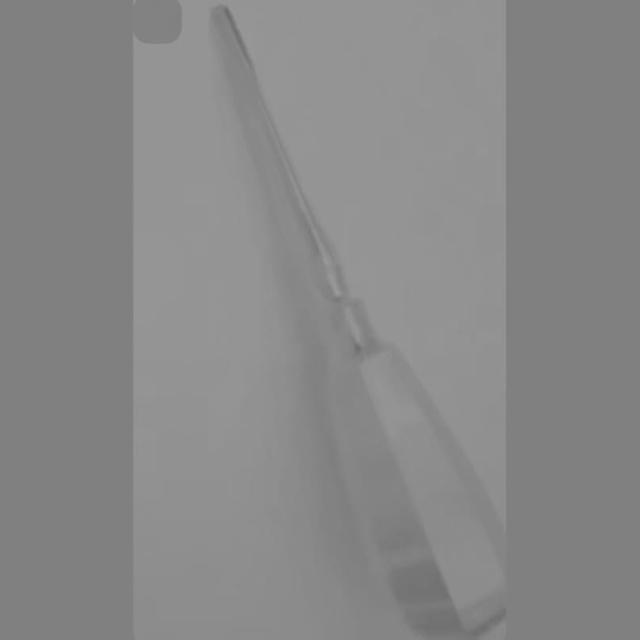botador: (216, 3, 506, 639)
